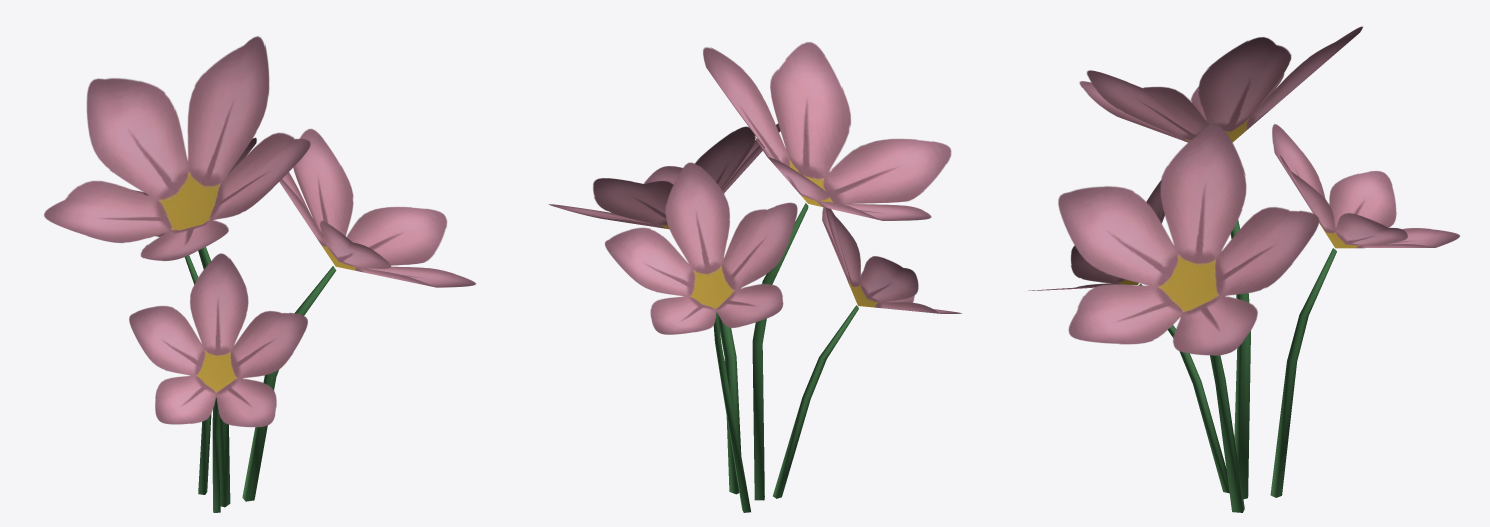
File: Flower_4_Clump.glb
3 renders of one model, left to right at view 1: azimuth 30°, elevation 25°; view 2: azimuth 150°, elevation 25°; view 3: azimuth 270°, elevation 25°, orthographic. The views are drawn at different scales.
Parts seen in each view (by area): view 1: Flower_4_Clump; view 2: Flower_4_Clump; view 3: Flower_4_Clump.
Part boxes in pixels (x1,y1,x2,y2): Flower_4_Clump: (44, 36, 475, 512); Flower_4_Clump: (548, 42, 961, 512); Flower_4_Clump: (1028, 26, 1459, 512).
Bounding box in the file's own units: 0.568 × 0.6011 × 0.498.
Materials: 1 (1 with a texture image).
